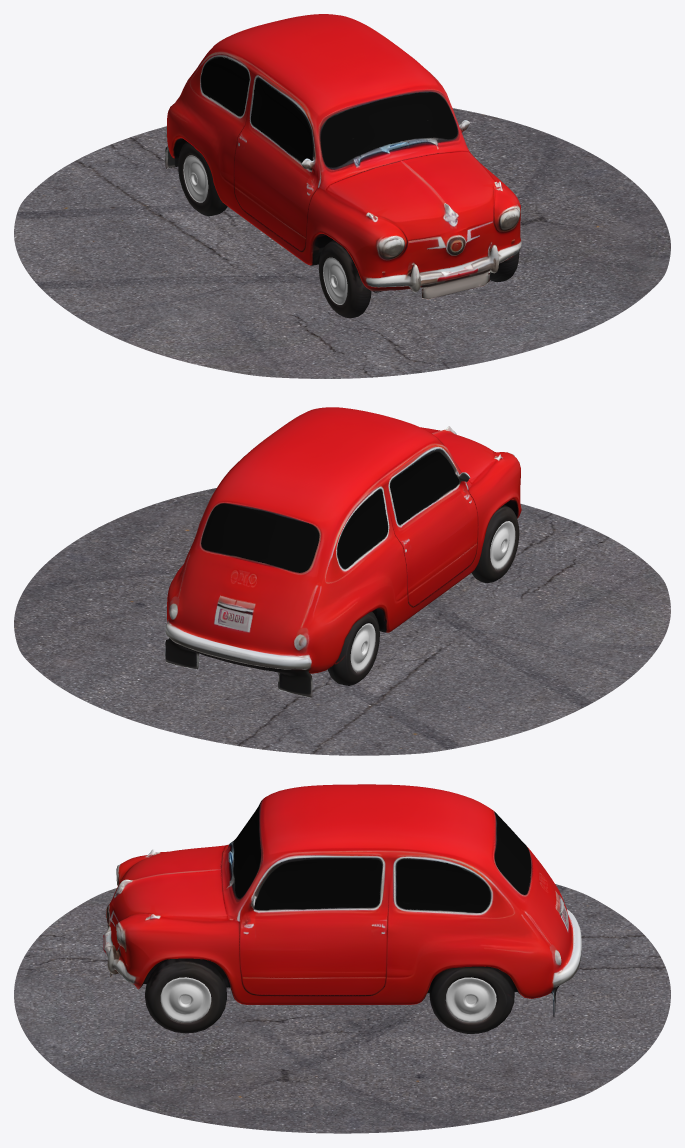
Rendered from coche1.fbx.
3 renders of one model, top to bottom at view 1: azimuth 30°, elevation 25°; view 2: azimuth 150°, elevation 25°; view 3: azimuth 270°, elevation 25°, orthographic. The views are drawn at different scales.
Parts seen in each view (by area): view 1: Plane, 600, 600.004, 600.002; view 2: Plane, 600, 600.002, 600.004; view 3: 600, Plane, 600.001, 600.003.
Part boxes in pixels (<box>): Plane: <box>14,108,670,378</box>; 600: <box>165,14,521,317</box>; 600.004: <box>183,155,208,202</box>; 600.002: <box>323,257,347,304</box>; Plane: <box>14,488,670,755</box>; 600: <box>165,407,521,697</box>; 600.002: <box>490,521,515,569</box>; 600.004: <box>350,623,375,671</box>; 600: <box>103,784,581,1033</box>; Plane: <box>14,884,670,1133</box>; 600.001: <box>160,977,211,1022</box>; 600.003: <box>445,977,496,1022</box>.
Size of the model in its own units: 183 by 58.24 by 183.
